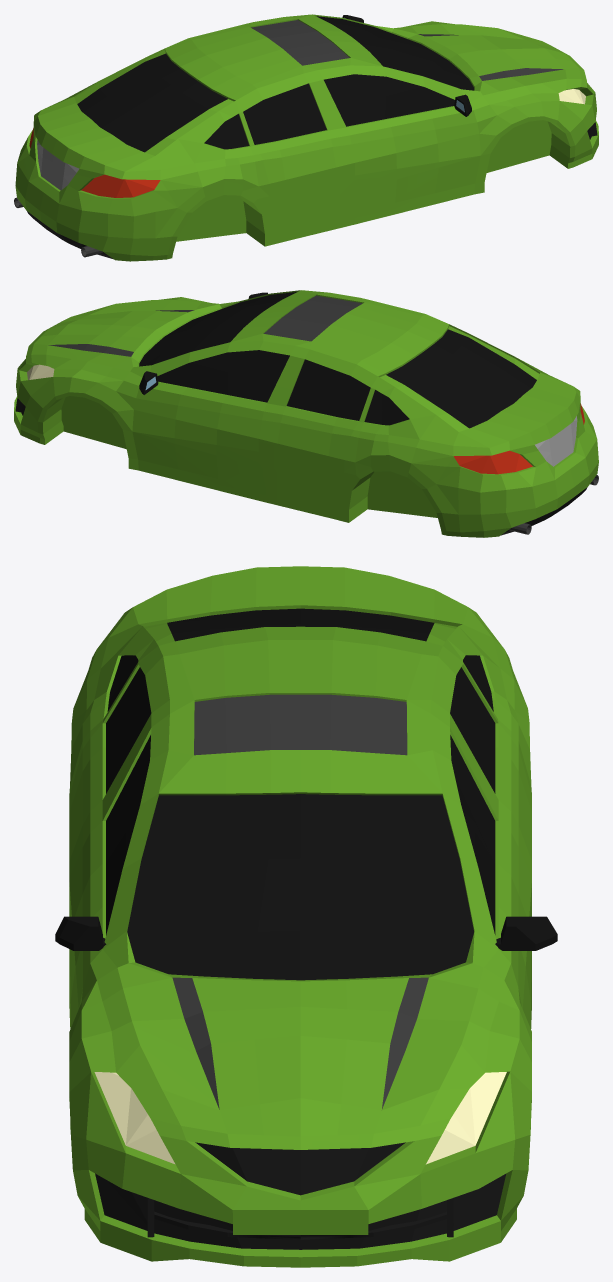
The model's file is base_mazda.glb.
The picture shows the model from 3 angles, top to bottom: view 1: azimuth 30°, elevation 25°; view 2: azimuth 150°, elevation 25°; view 3: azimuth 270°, elevation 25°; orthographic projection. The views are drawn at different scales.
Visible parts, largest first — view 1: base, windows, roof, back_lights, back_plate, stripes, bumper; view 2: base, windows, roof, back_lights, back_plate, stripes, bumper; view 3: base, windows, bumper, roof, front_lights, stripes.
Part boxes in pixels (<box>): base: <box>15,14,598,261</box>; windows: <box>77,15,473,152</box>; roof: <box>251,20,349,65</box>; back_lights: <box>29,128,160,197</box>; back_plate: <box>37,140,79,190</box>; stripes: <box>418,34,563,80</box>; bumper: <box>27,122,597,259</box>; base: <box>14,290,598,537</box>; windows: <box>139,292,536,428</box>; roof: <box>264,295,362,341</box>; back_lights: <box>454,403,584,474</box>; back_plate: <box>535,416,577,466</box>; stripes: <box>48,310,194,356</box>; bumper: <box>15,398,587,535</box>; base: <box>69,566,531,1267</box>; windows: <box>55,608,557,980</box>; bumper: <box>95,1142,505,1249</box>; roof: <box>194,694,407,755</box>; front_lights: <box>94,1072,506,1164</box>; stripes: <box>172,977,428,1109</box>.
Bounding box in the file's own units: 4.77 × 1.27 × 1.92.
